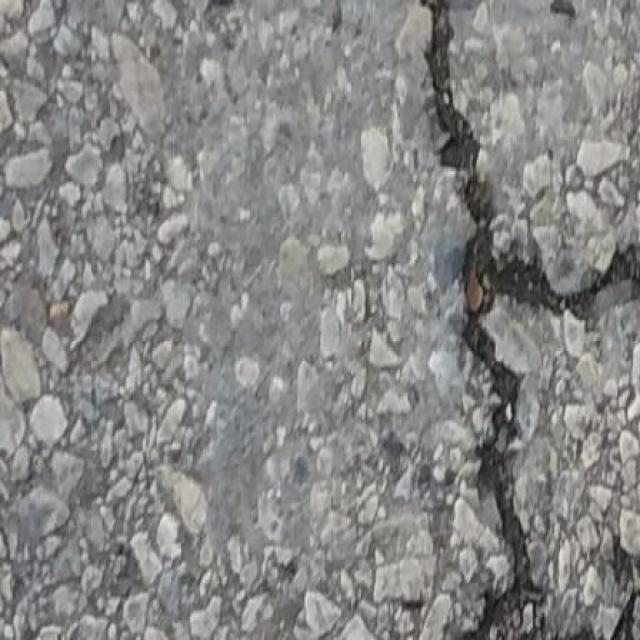Crack: (431, 0, 640, 639), (210, 0, 246, 16)
